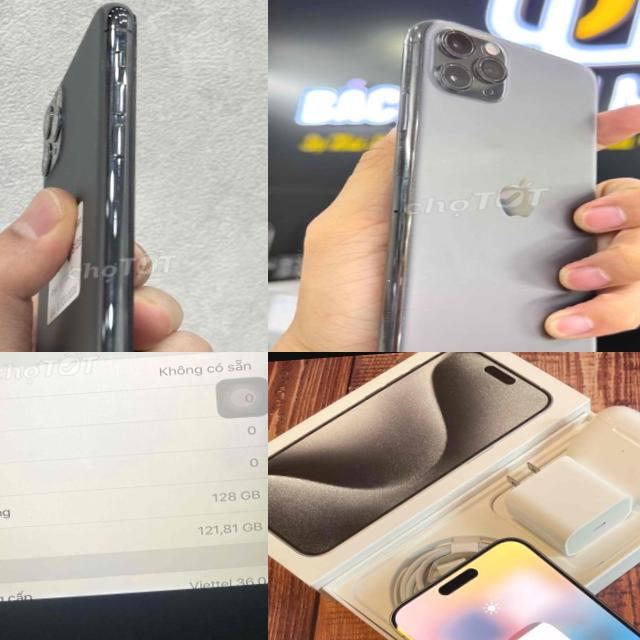scratch: (101, 6, 144, 122), (92, 145, 139, 244), (389, 154, 421, 262), (380, 274, 426, 296), (376, 302, 404, 326)
